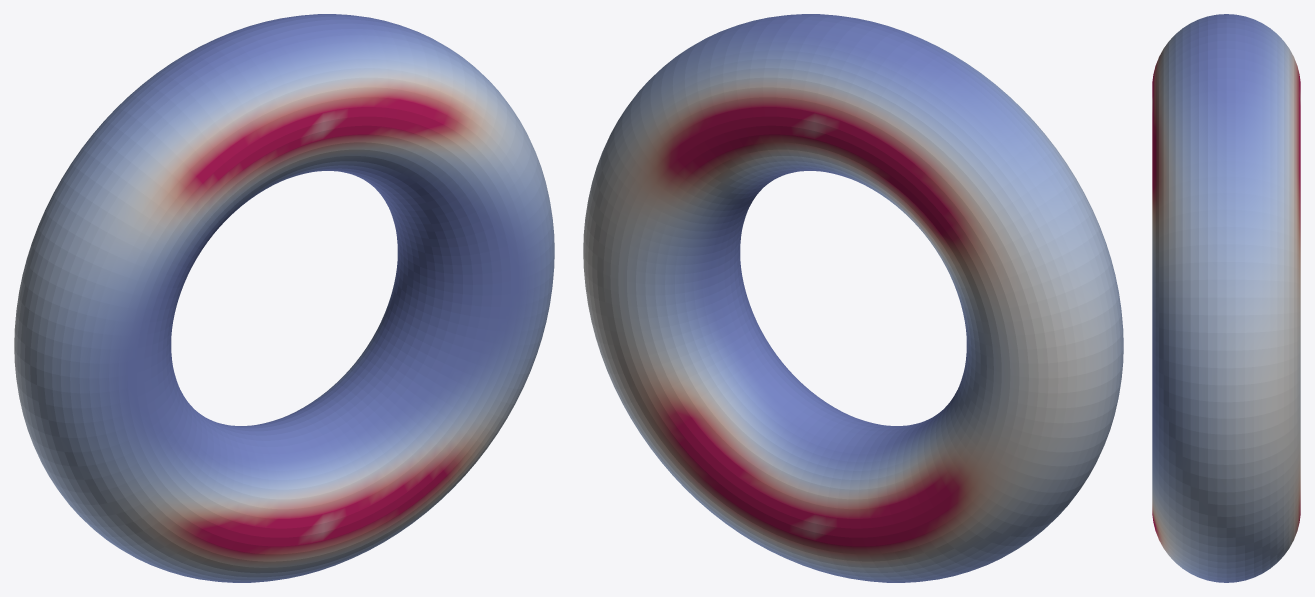
3 views of the same model, side by side, from view 1: azimuth 30°, elevation 25°; view 2: azimuth 150°, elevation 25°; view 3: azimuth 270°, elevation 25° (orthographic). The views are drawn at different scales.
Visible parts, largest first — view 1: world; view 2: world; view 3: world.
Boxes of the visible parts, <box> form: world: <box>14,14,554,582</box>; world: <box>583,14,1123,582</box>; world: <box>1152,14,1300,582</box>.
Bounding box in the file's own units: 19.87 × 19.87 × 5.19.
